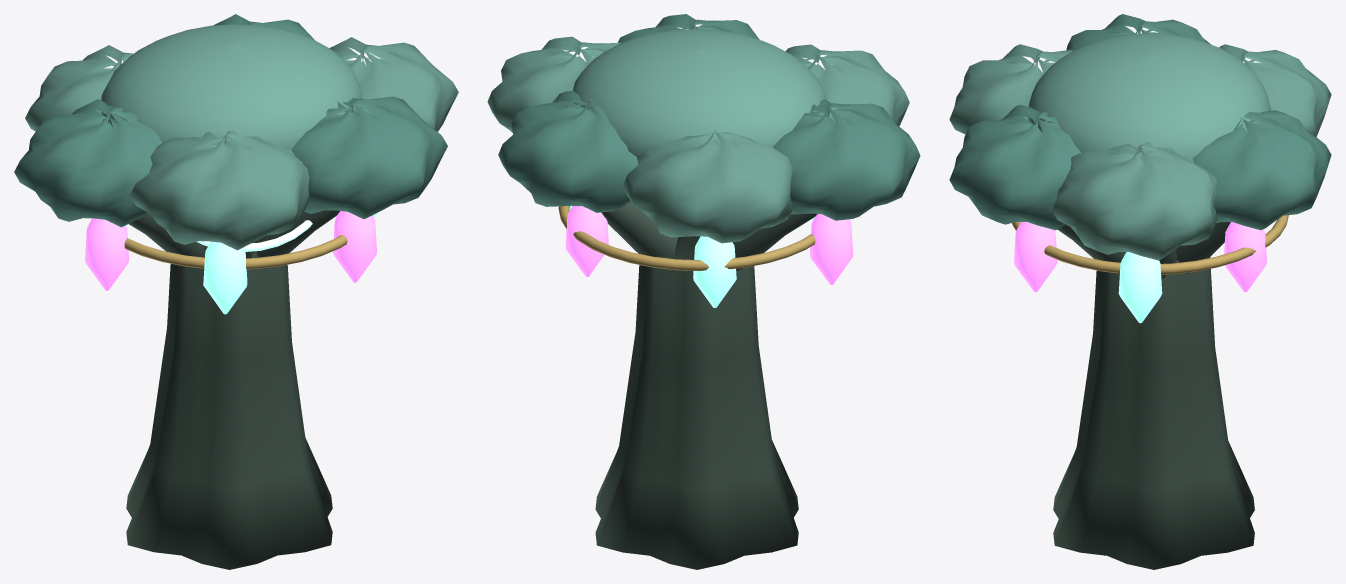
File: moon-crown.glb
3 views of the same model, side by side, from view 1: azimuth 30°, elevation 25°; view 2: azimuth 150°, elevation 25°; view 3: azimuth 270°, elevation 25° (orthographic). The views are drawn at different scales.
Visible parts, largest first — view 1: Lunar_Canopy, Crown_Trunk, Plague_Pods, Vitality_Pods, Crown_Boughs, Censer_Rings; view 2: Lunar_Canopy, Crown_Trunk, Plague_Pods, Crown_Boughs, Censer_Rings, Vitality_Pods; view 3: Lunar_Canopy, Crown_Trunk, Plague_Pods, Censer_Rings, Vitality_Pods, Crown_Boughs.
Boxes of the visible parts, x1,y1,x2,y2 form: Lunar_Canopy: (14,14,458,250); Crown_Trunk: (126,252,332,569); Plague_Pods: (85,211,376,290); Vitality_Pods: (126,212,378,314); Crown_Boughs: (129,210,339,268); Censer_Rings: (91,215,372,269); Lunar_Canopy: (487,14,920,243); Crown_Trunk: (595,255,798,569); Plague_Pods: (565,206,853,284); Crown_Boughs: (601,201,817,274); Censer_Rings: (558,206,815,270); Vitality_Pods: (569,205,814,307); Lunar_Canopy: (949,14,1331,260); Crown_Trunk: (1053,257,1254,569); Plague_Pods: (1014,222,1266,292); Censer_Rings: (1012,215,1288,274); Vitality_Pods: (1118,252,1162,323); Crown_Boughs: (1057,222,1230,278).
Size of the model in its own units: 5.16 by 5.67 by 4.21.
